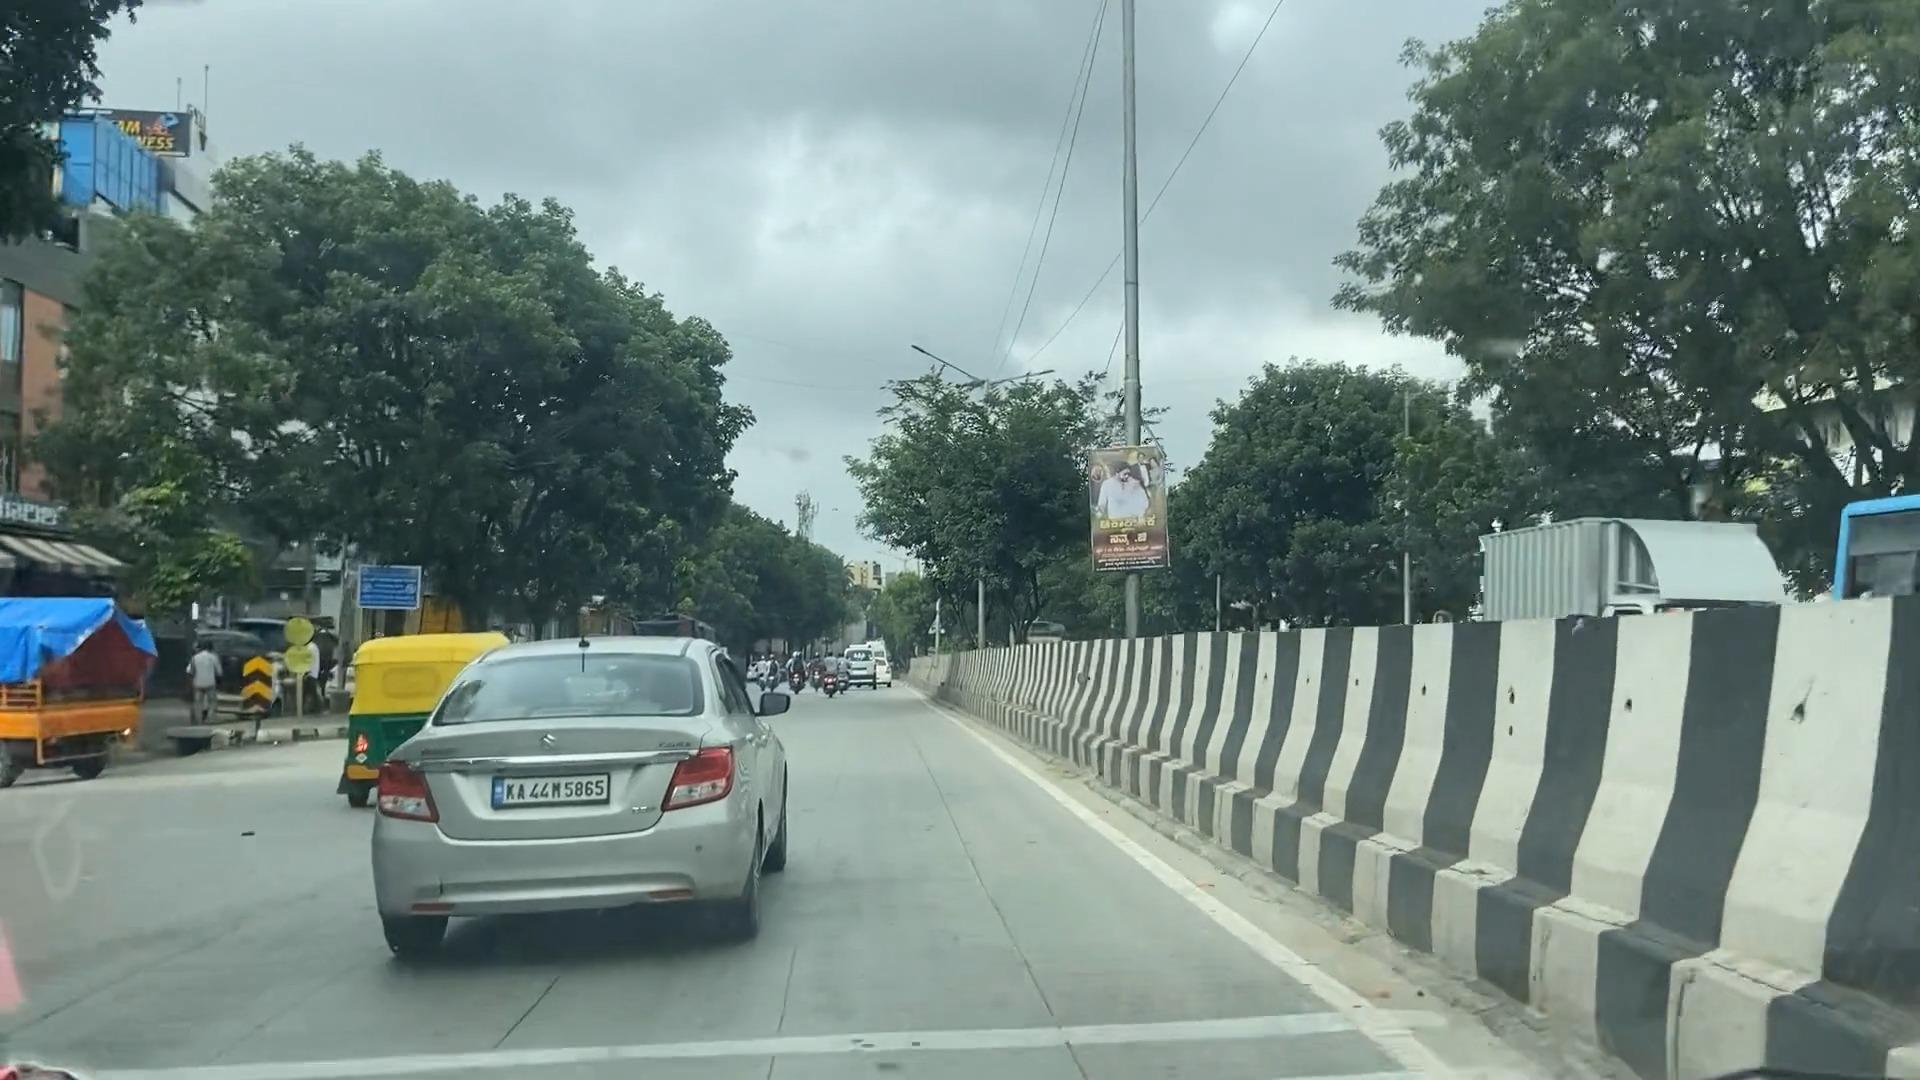LMV: (345, 638, 803, 944)
